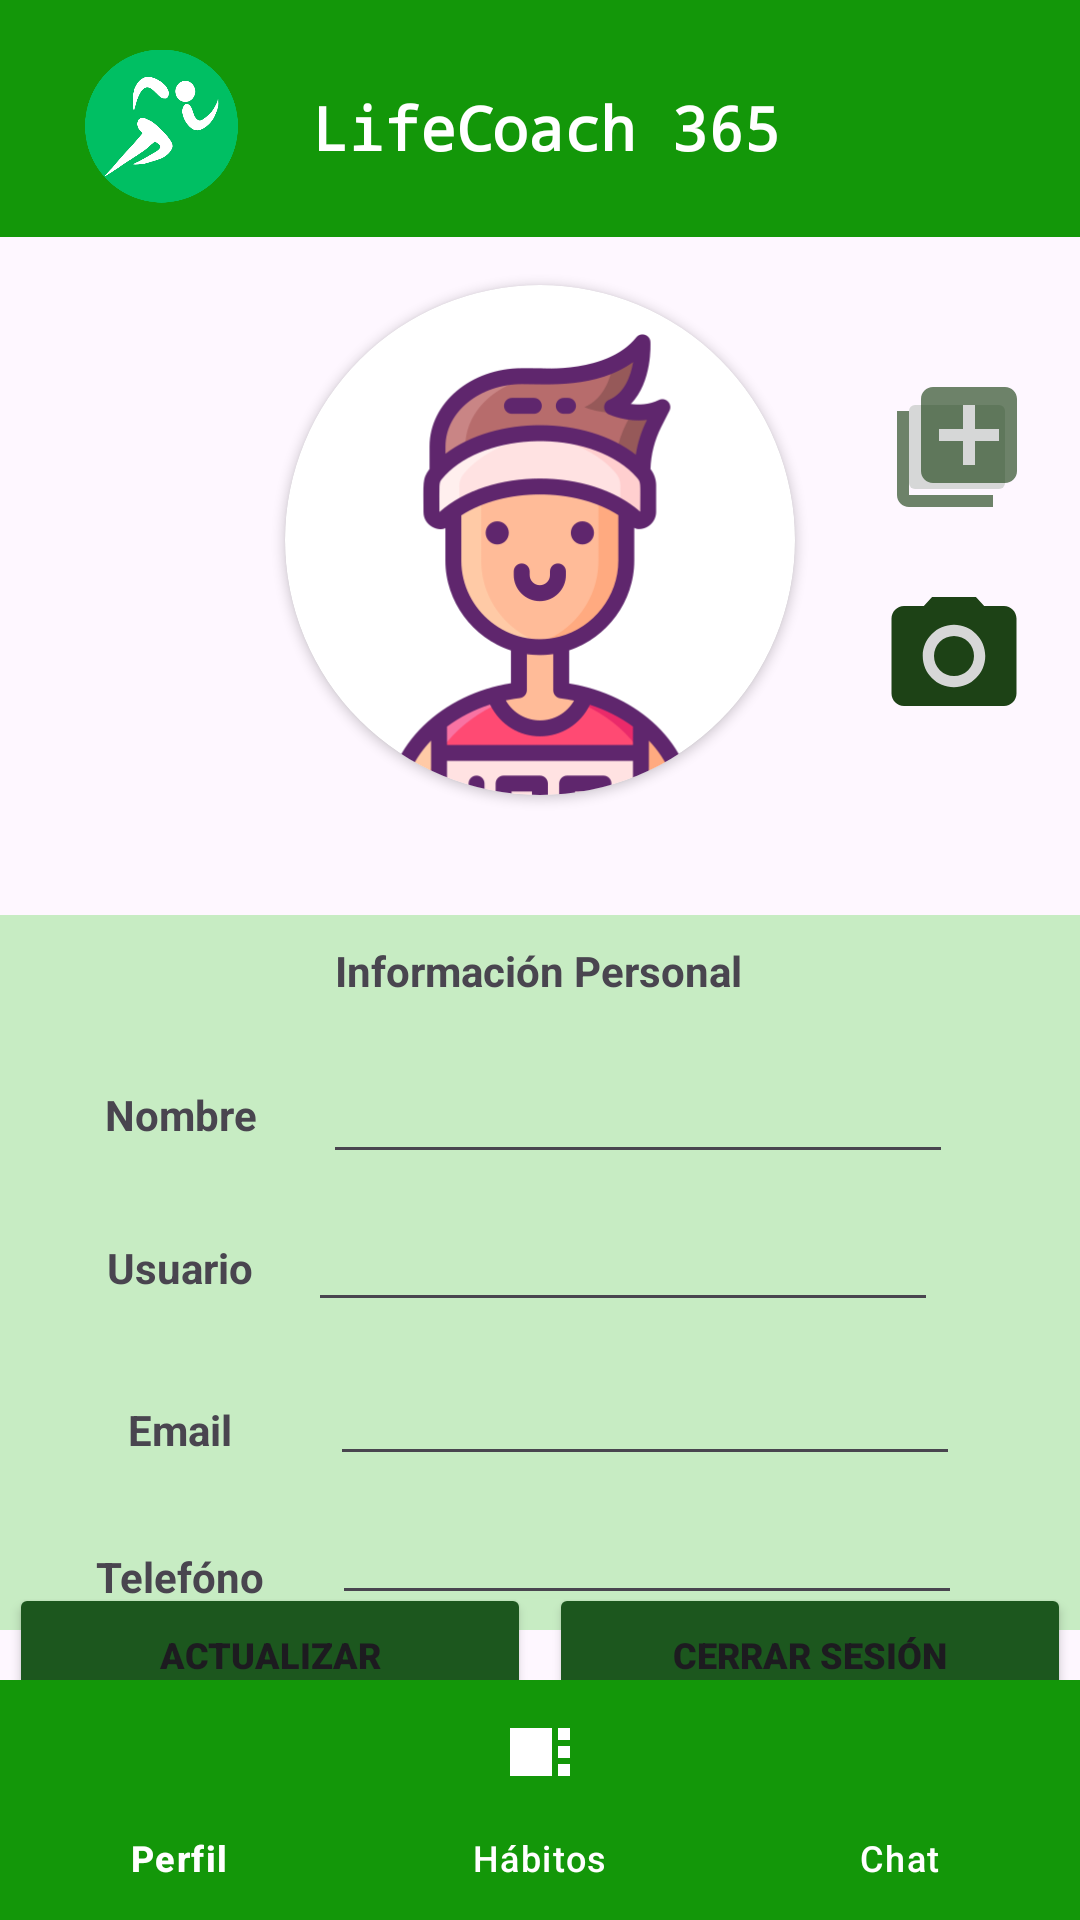

Screen size 1080*1920. Icon name, then its center in pixels as (x,y):
gallerydrawable: (957,447)
registercamera: (954,651)
